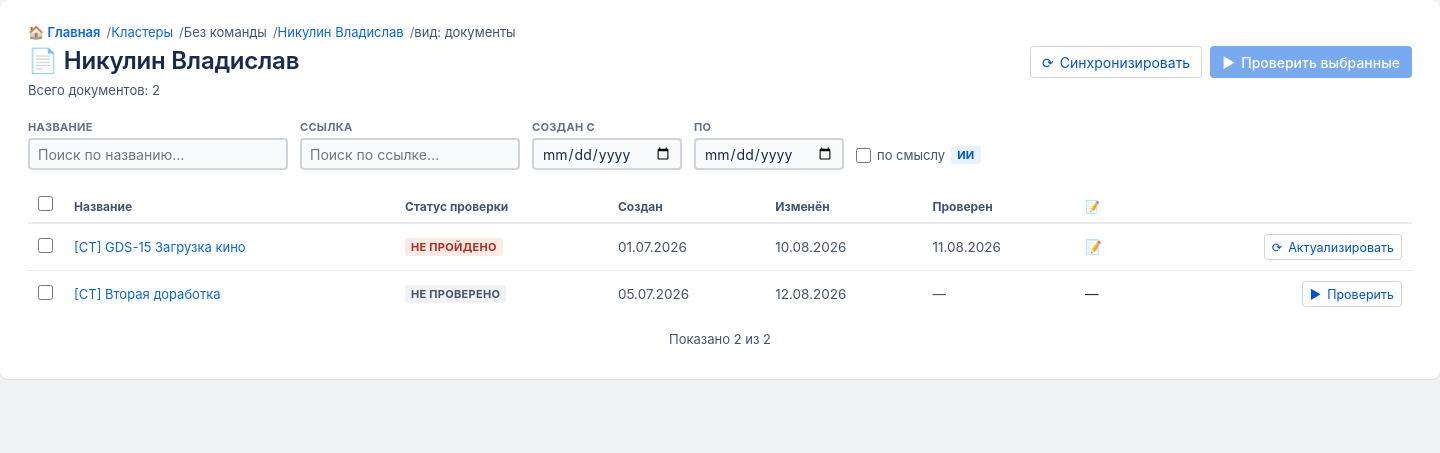
Test case: DocumentsPage › clears the selection when the period changes
Click the checkbox named "Выбрать документ: [СТ] GDS-15 Загрузка кино": click(46, 246) [38, 238, 53, 253]
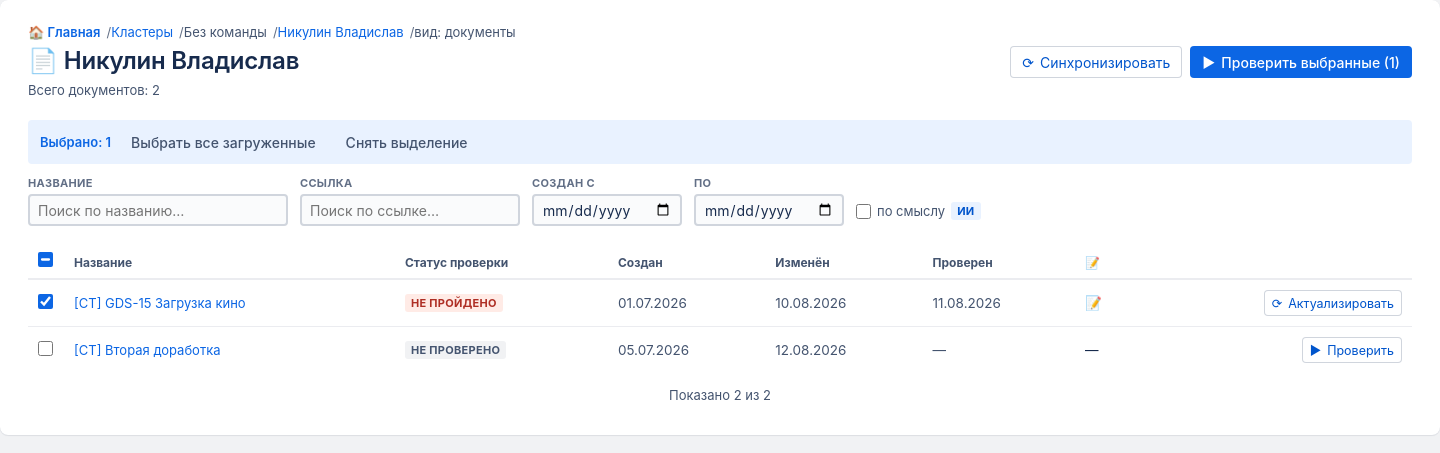
Check: the button "▶ Проверить выбранные (1)" is enabled, box [1190, 46, 1412, 78]
In the date field labelled "Создан с": (607, 210) [532, 194, 682, 226], type "2026-08-01"
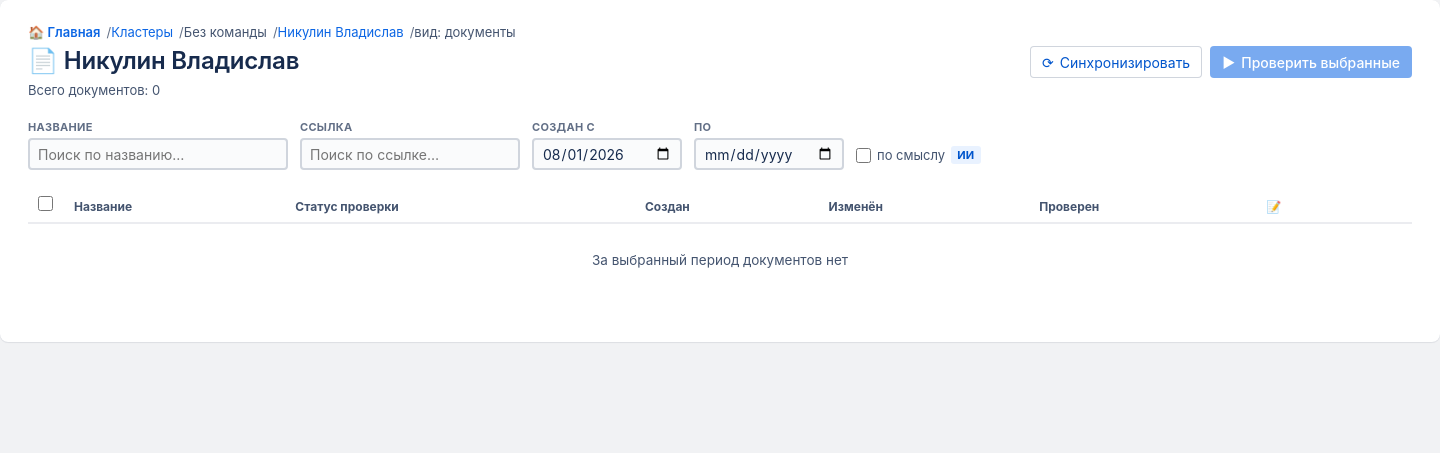
Check: the text "За выбранный период документов нет" is shown, box [28, 223, 1412, 296]
Check: the button "▶ Проверить выбранные" is disabled, box [1210, 46, 1412, 78]
